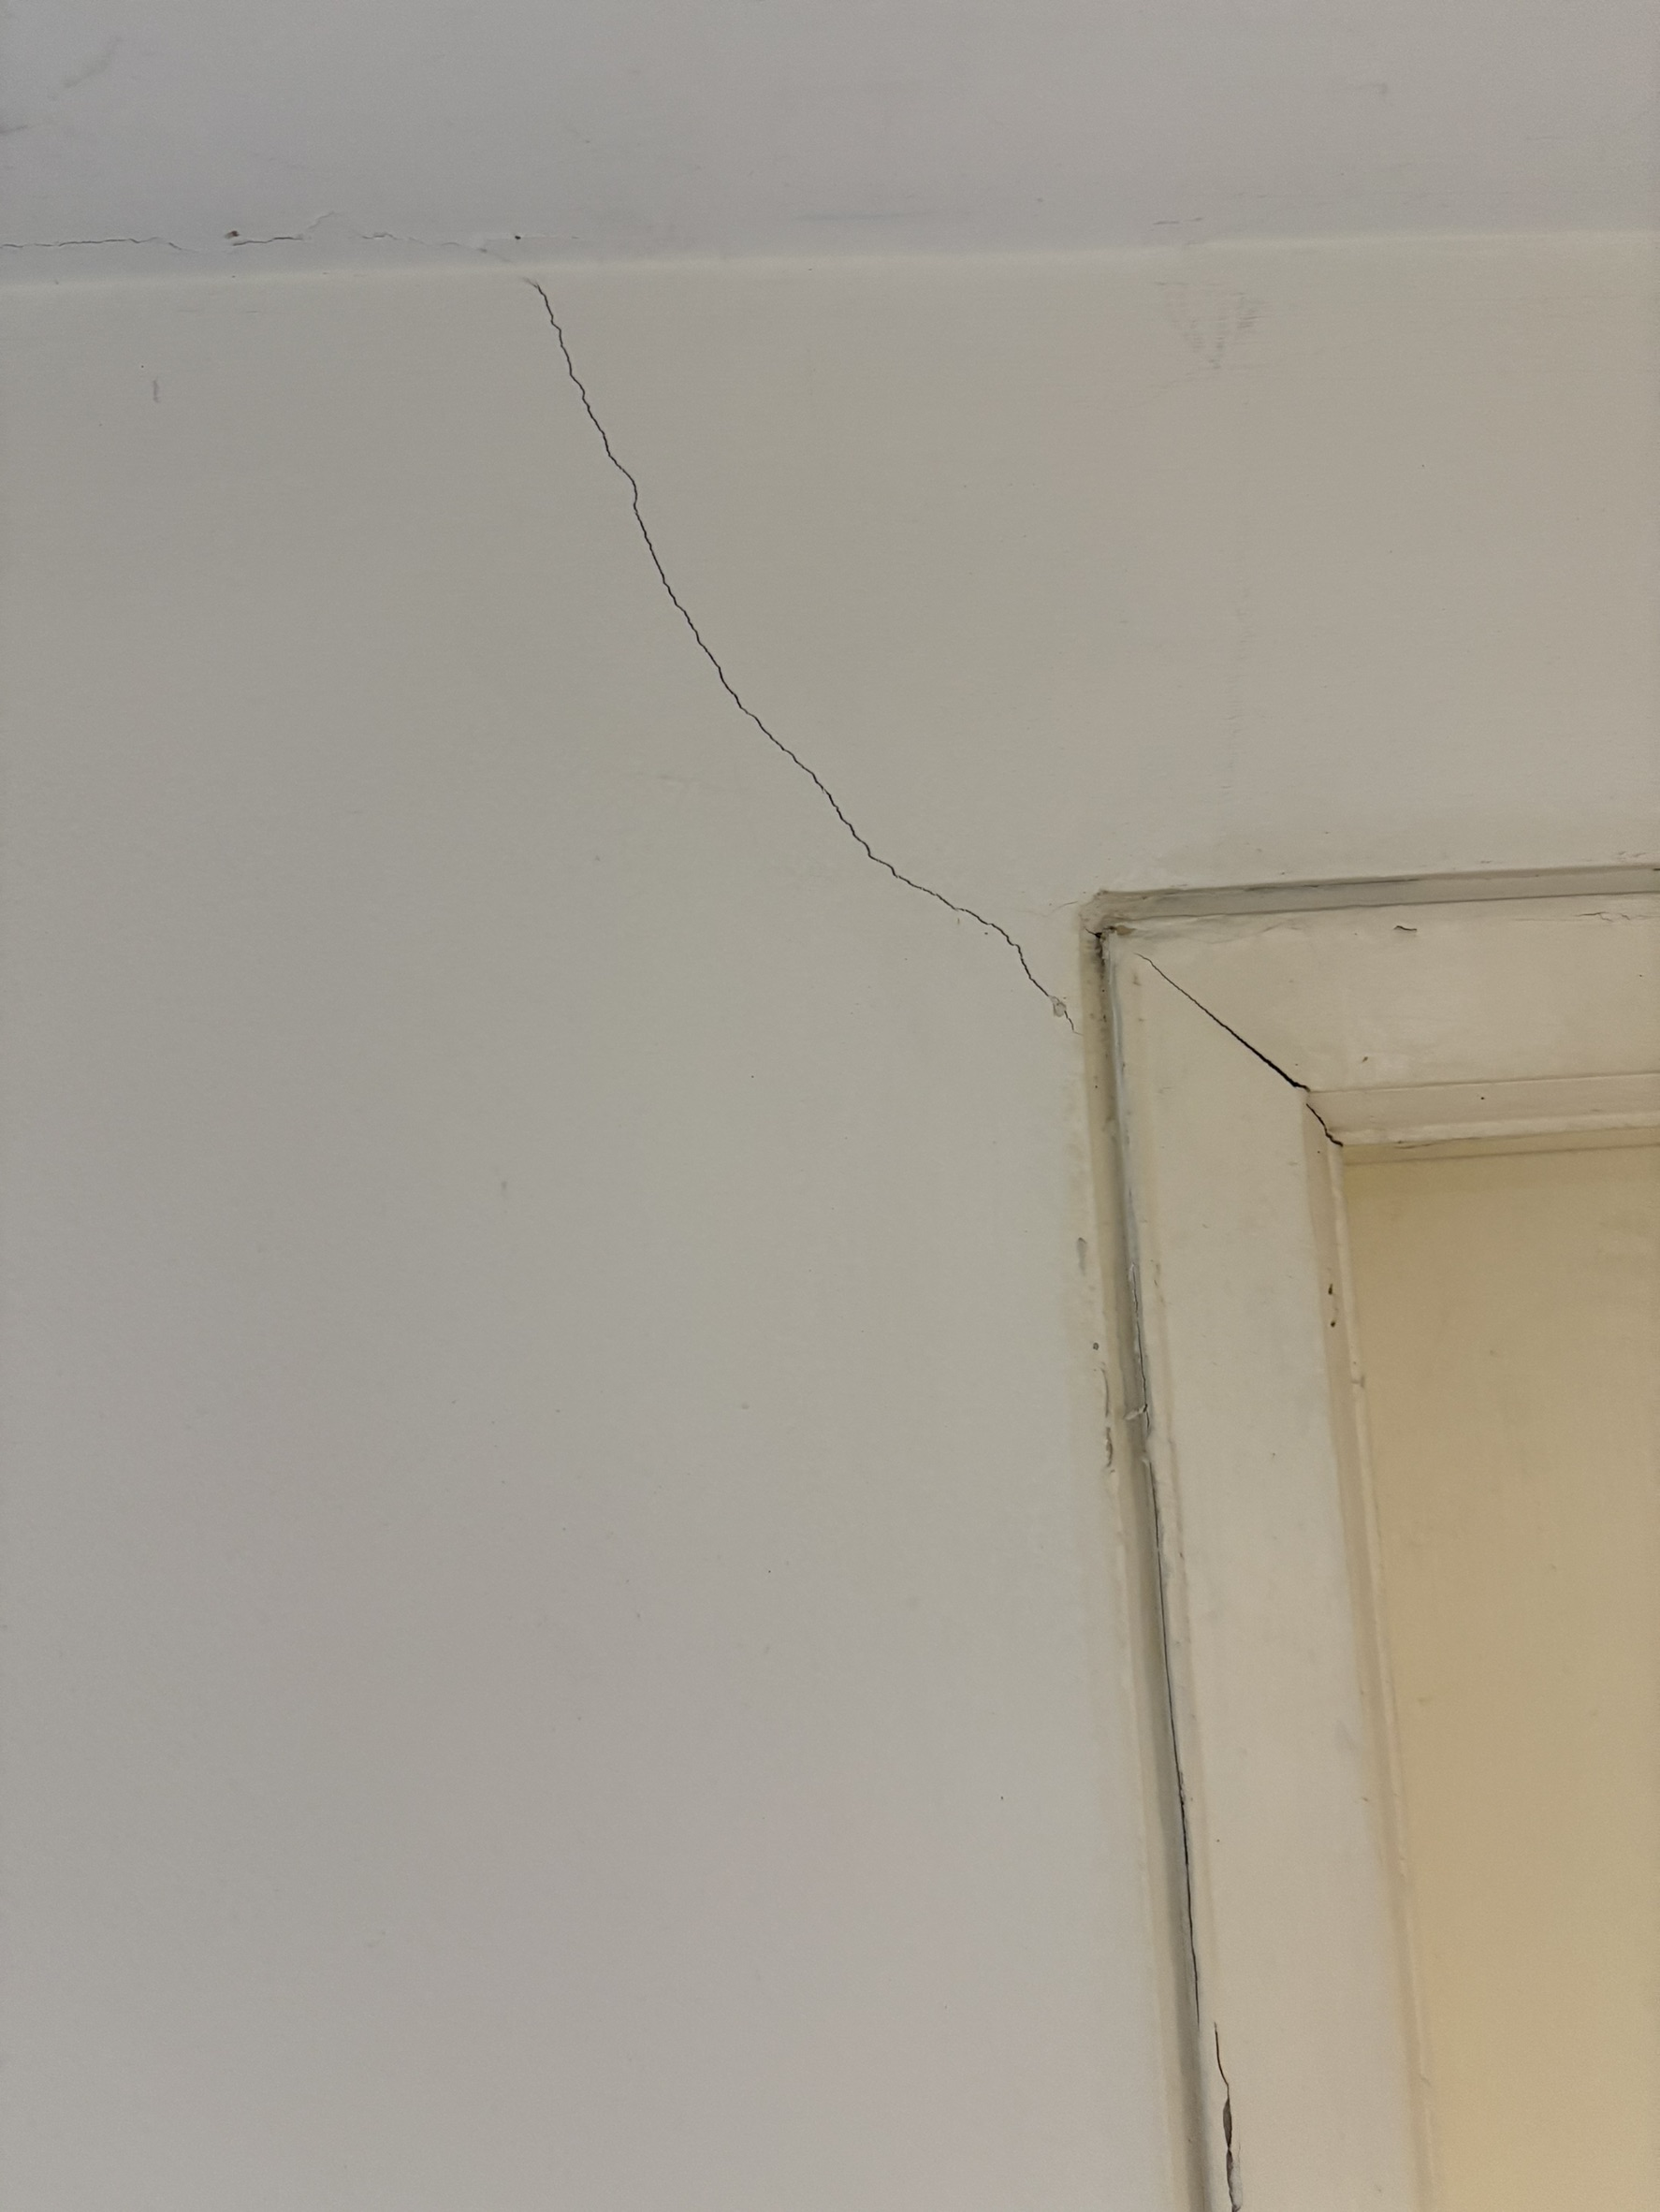Low: (518, 275, 1074, 1109)
